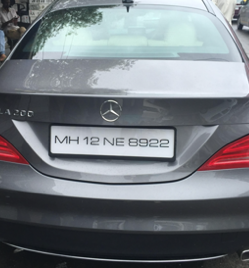MH12NE8922: (49, 124, 176, 161)
